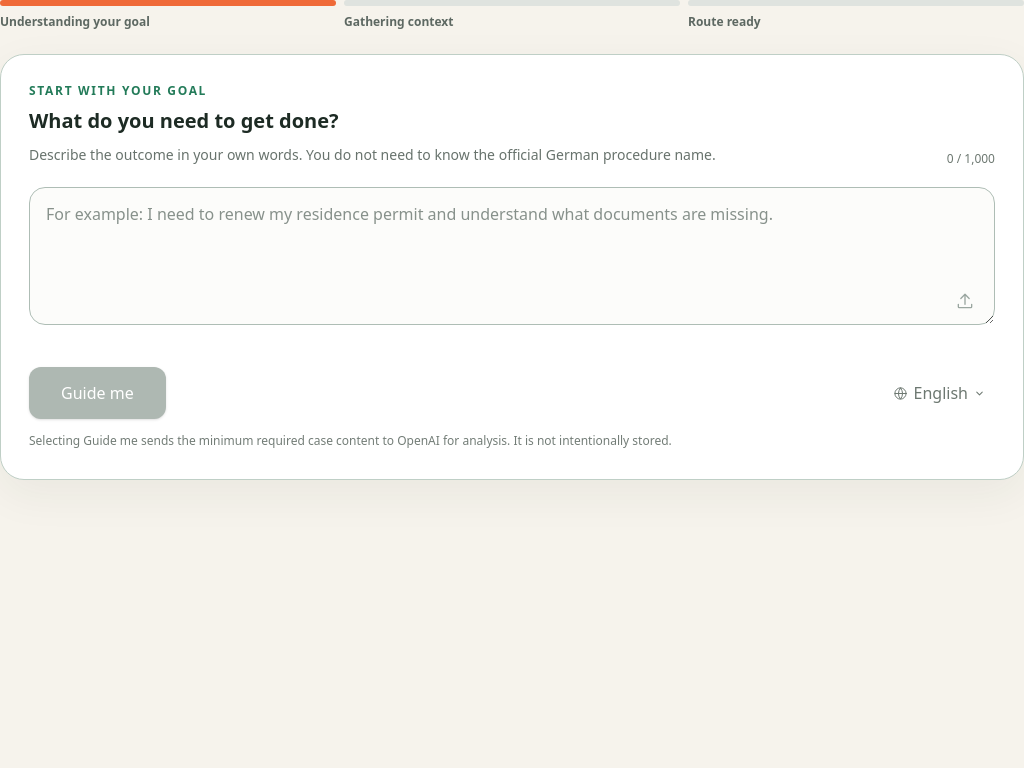
CaseWorkspace › builds a goal-only profile through the server boundary
This screenshot has width=1024, height=768.
Step 1. Type "Renew a fictional residence permit and prepare the missing documents." into the text box named "What do you need to get done?" → (512, 256), box x1=29 y1=187 x2=995 y2=325
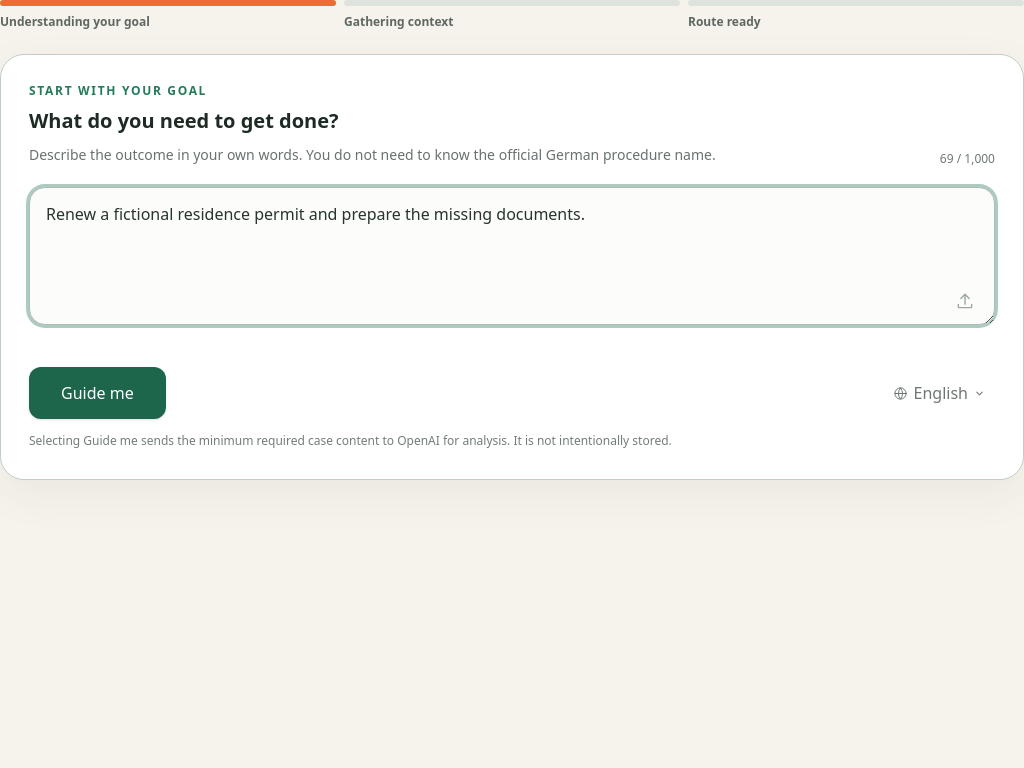
Step 2. Click the button "Guide me" → (97, 393), box x1=29 y1=367 x2=166 y2=419
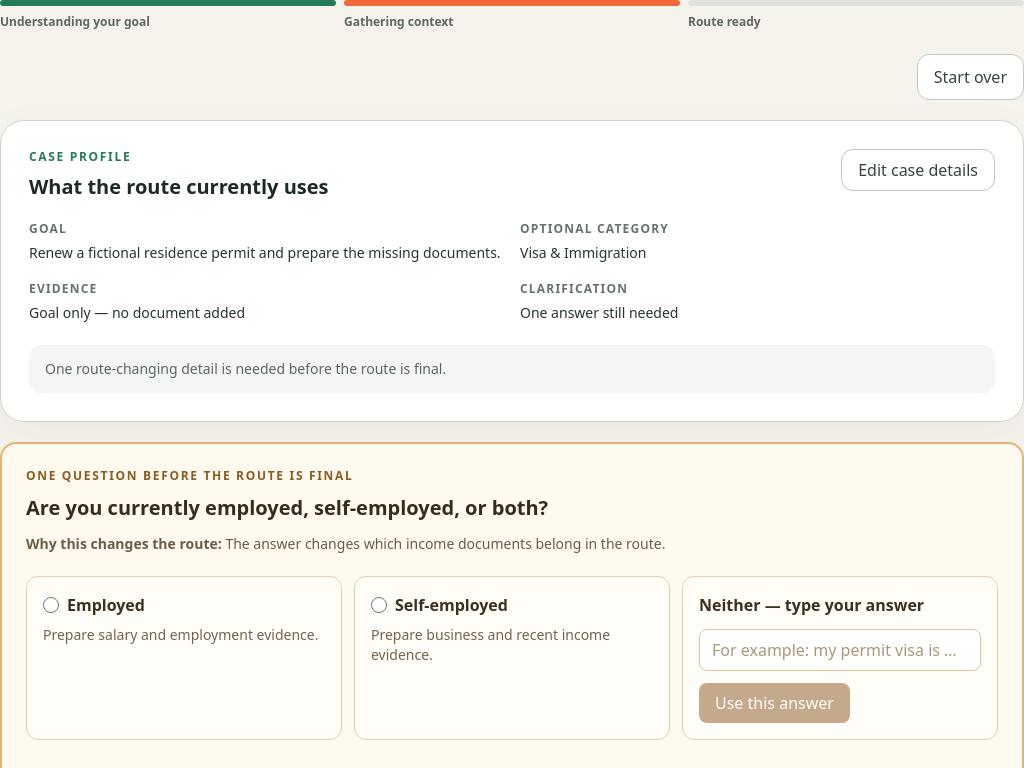
Result: the heading "What the route currently uses" is shown at x1=29 y1=173 x2=328 y2=201
Result: the text "Renew a fictional residence permit and prepare the missing documents." is shown at x1=29 y1=241 x2=504 y2=265
Result: the text "Goal only — no document added" is shown at x1=29 y1=303 x2=245 y2=322
